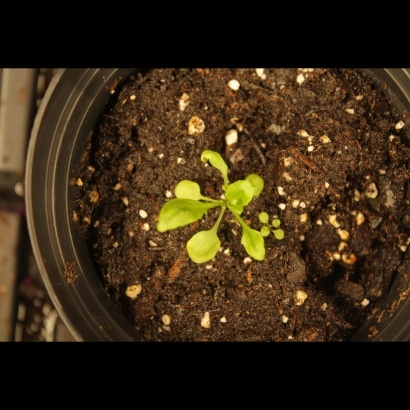leaf: (149, 194, 213, 233), (186, 229, 225, 271), (197, 146, 236, 181), (240, 222, 267, 268), (174, 173, 205, 205), (223, 180, 256, 210), (273, 231, 296, 254), (257, 204, 280, 227), (246, 174, 269, 197)
